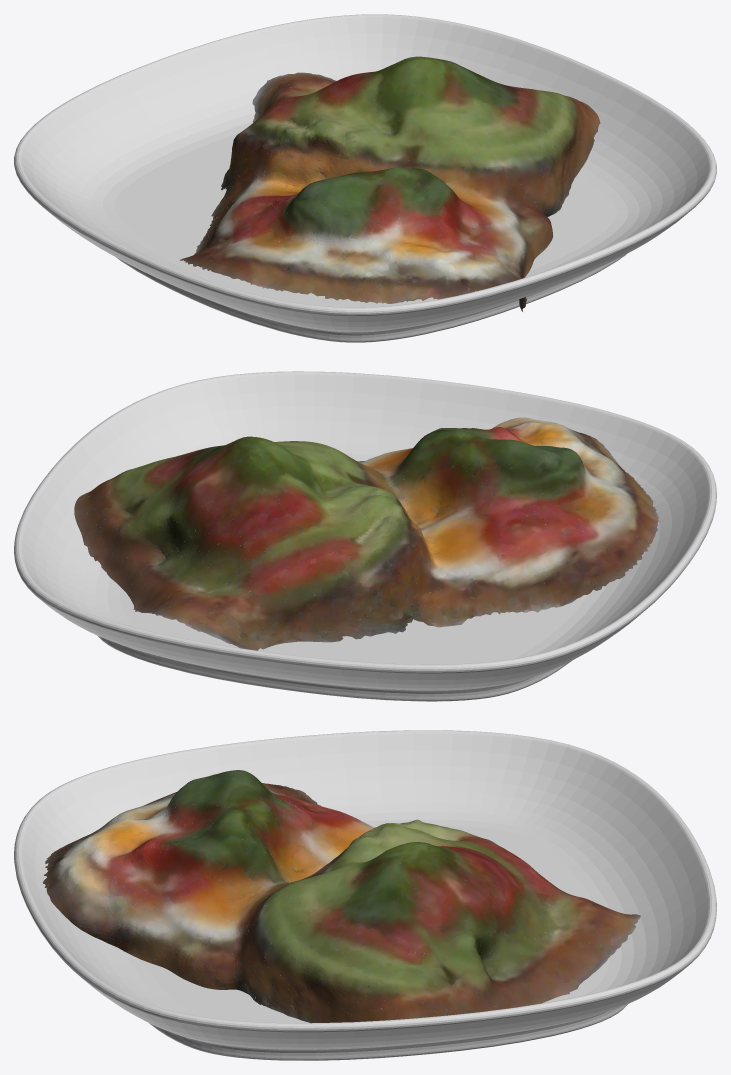
File: baramacka.glb
3 views of the same model, one above another, from view 1: azimuth 30°, elevation 25°; view 2: azimuth 150°, elevation 25°; view 3: azimuth 270°, elevation 25° (orthographic). The views are drawn at different scales.
Parts seen in each view (by area): view 1: Macka; view 2: Macka; view 3: Macka.
Part boxes in pixels (bbox=[...]): Macka: bbox=[14, 14, 716, 342]; Macka: bbox=[14, 371, 716, 701]; Macka: bbox=[14, 730, 716, 1060].
Bounding box in the file's own units: 0.1532 × 0.0341 × 0.1532.
Materials: 7 (6 with a texture image).
